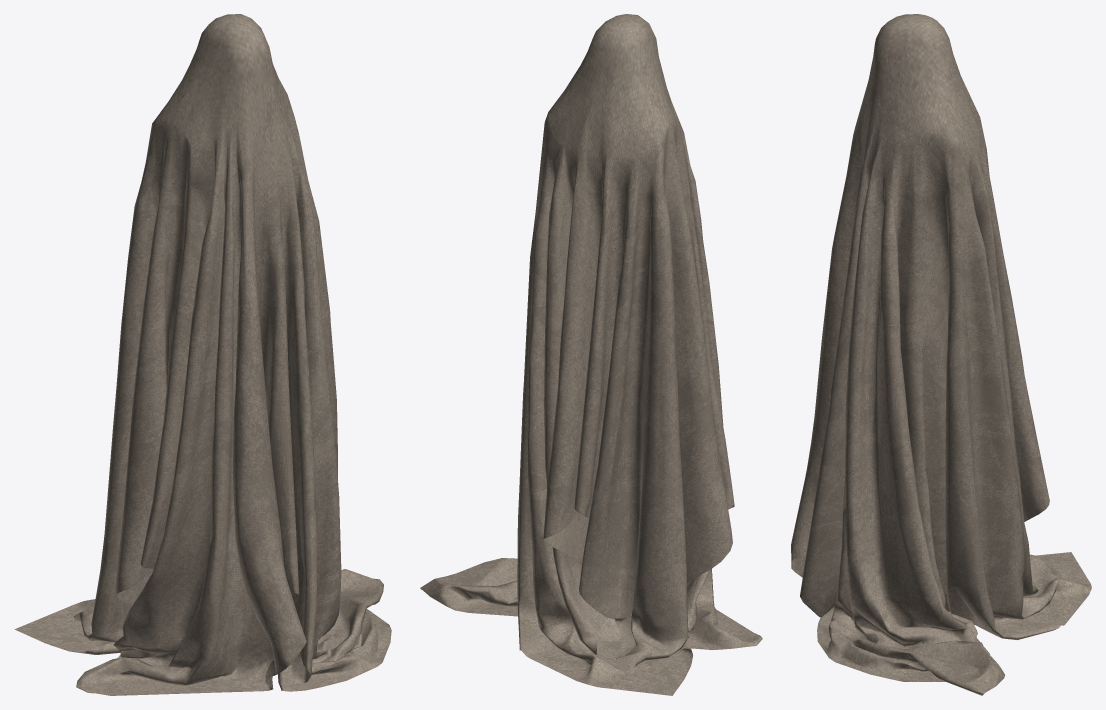
The model's file is Manta.fbx.
The picture shows the model from 3 angles, left to right: view 1: azimuth 30°, elevation 25°; view 2: azimuth 150°, elevation 25°; view 3: azimuth 270°, elevation 25°; orthographic projection. The views are drawn at different scales.
Visible parts, largest first — view 1: 02; view 2: 02; view 3: 02.
Boxes of the visible parts, x1,y1,x2,y2 form: 02: [14, 14, 391, 695]; 02: [420, 14, 762, 695]; 02: [791, 14, 1091, 695].
Size of the model in its own units: 126 by 231 by 105.
1 material, 1 textured.
